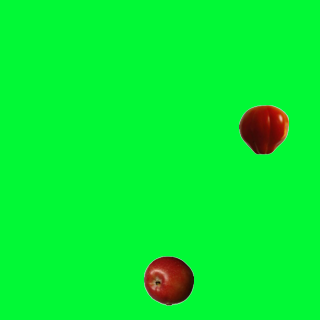Apple Braeburn: (143, 255, 193, 305)
Tomato 1: (238, 104, 288, 154)
